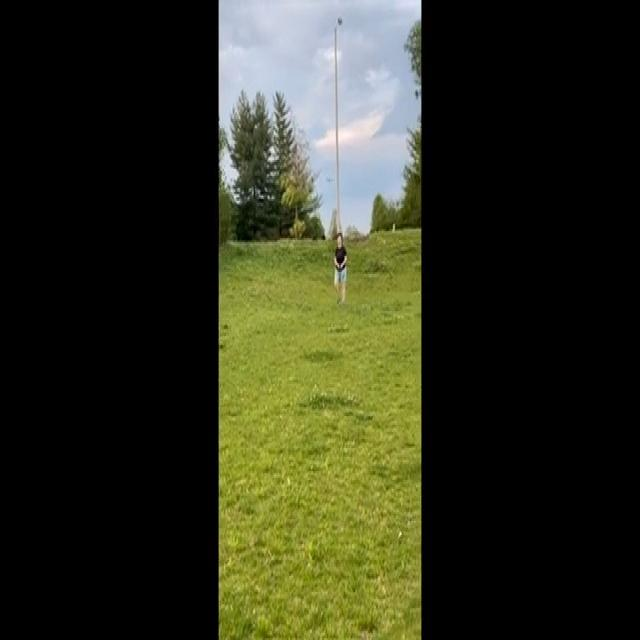drone: (324, 172, 336, 186)
